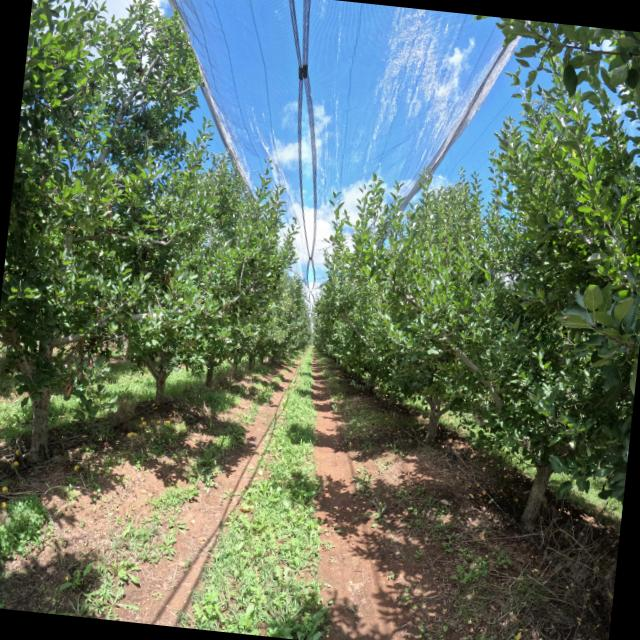-FireBlight-: (87, 353, 99, 367), (164, 269, 174, 285), (63, 383, 71, 397), (122, 336, 128, 347), (101, 341, 106, 351), (112, 341, 116, 351), (78, 372, 81, 379)
